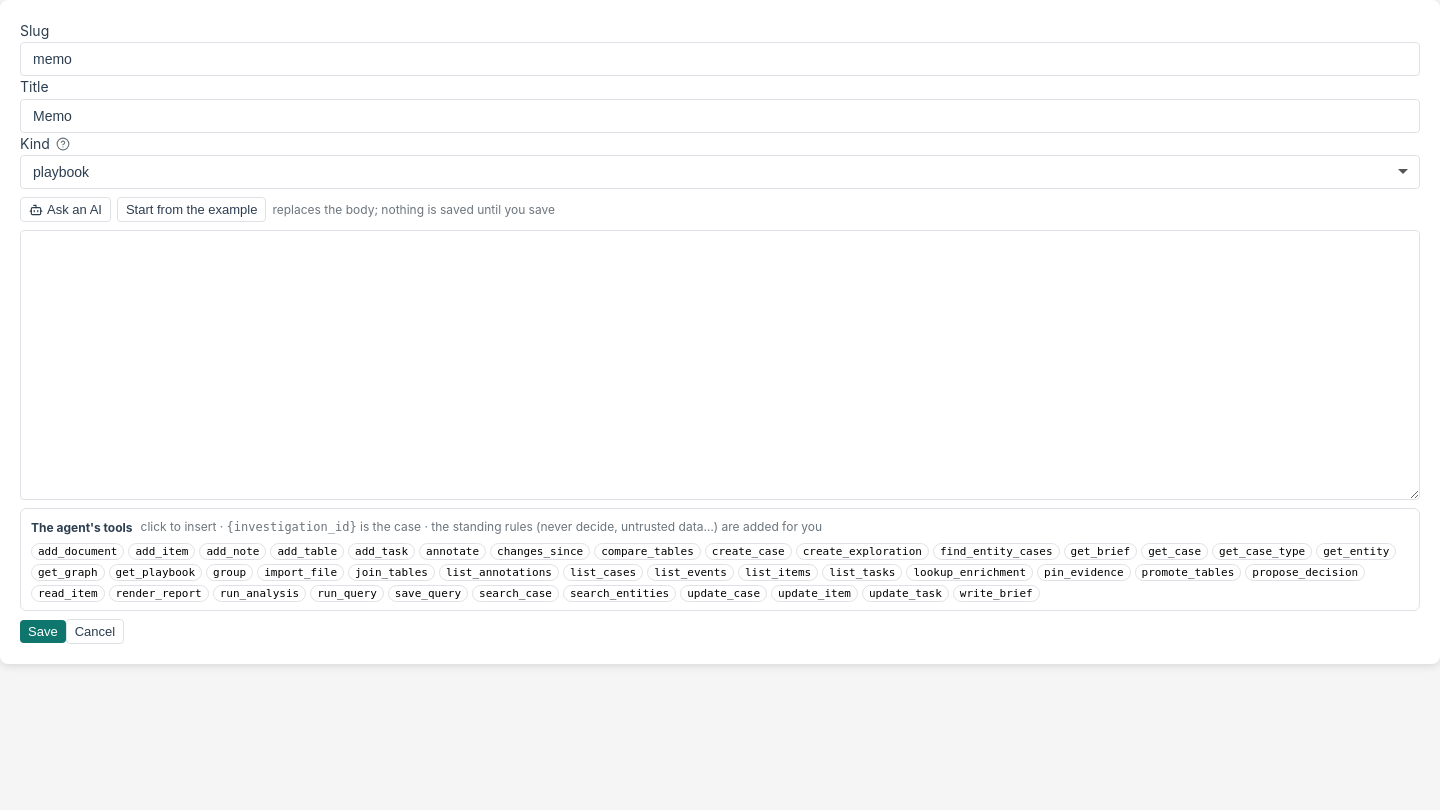
Test: LibraryDocEditor (06) › the kind help explains the three kinds
Click the button with test id "help-library-kind".
click(63, 144)  # box [54, 137, 72, 151]
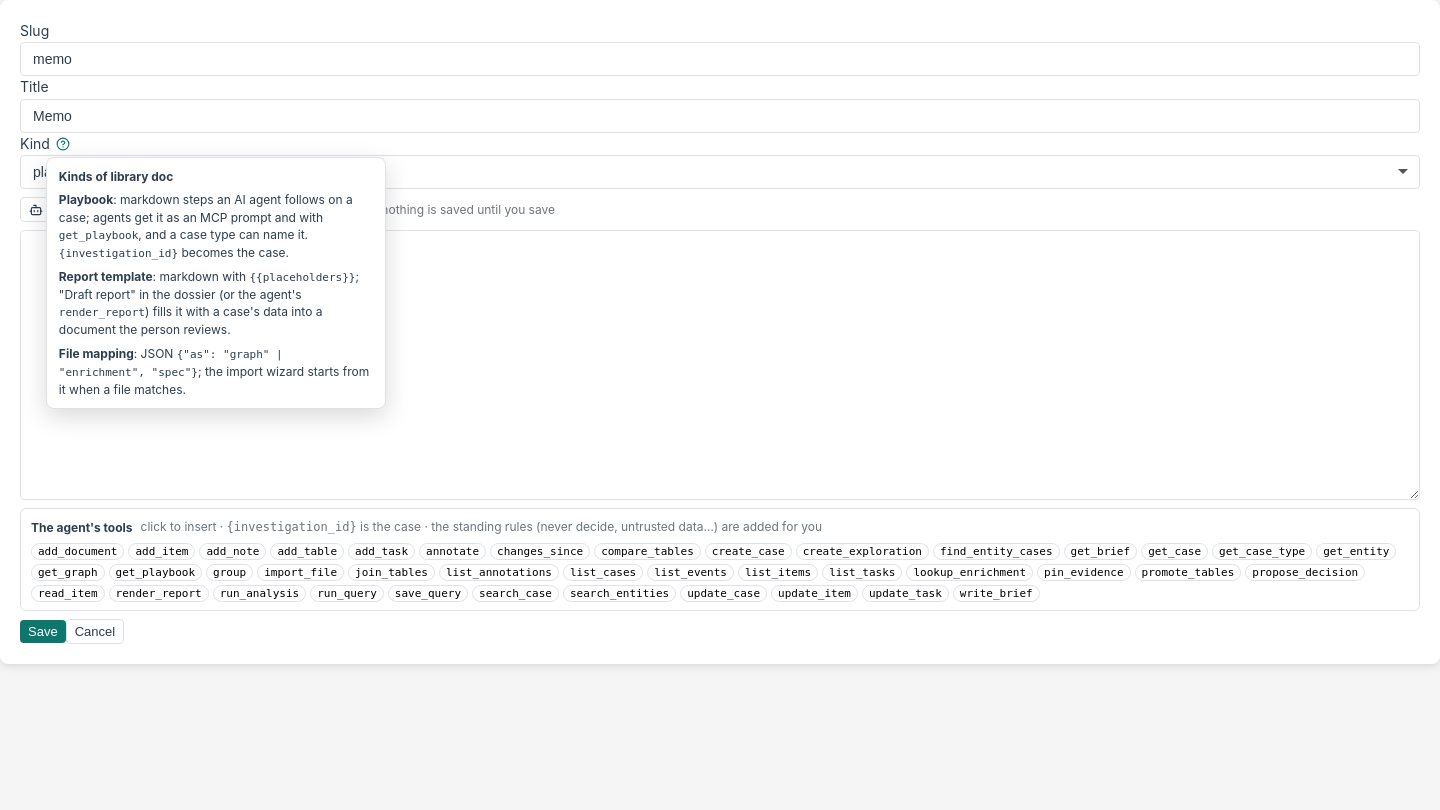
Result: the dialog with test id "help-library-kind-text" shows "Report template" at [59, 269, 153, 284]
Result: the dialog with test id "help-library-kind-text" shows "{{placeholders}}" at [250, 271, 356, 284]
